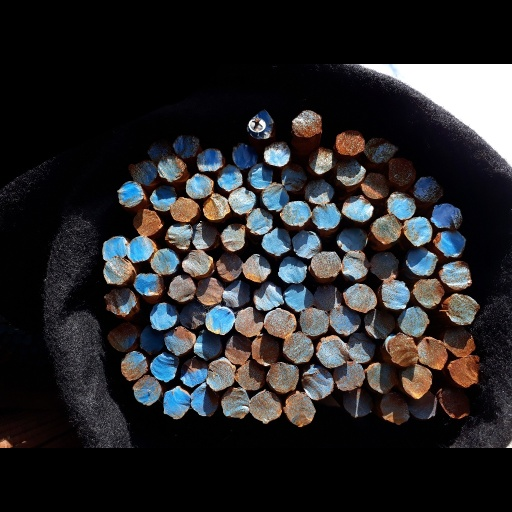dipstick: (401, 364, 433, 398), (416, 336, 448, 370), (284, 394, 316, 428), (250, 391, 282, 425), (447, 356, 480, 388), (343, 283, 378, 313), (267, 362, 300, 393), (447, 294, 479, 325), (367, 363, 398, 395), (282, 332, 314, 363), (303, 368, 333, 401), (438, 261, 472, 290), (103, 288, 137, 317), (261, 225, 292, 256), (444, 327, 476, 357), (412, 278, 444, 308), (132, 375, 162, 407), (432, 229, 466, 257), (162, 326, 196, 354), (245, 110, 276, 140), (399, 307, 429, 338), (370, 214, 401, 244), (250, 335, 280, 366), (205, 360, 235, 391), (107, 321, 138, 351), (430, 201, 462, 230), (317, 338, 349, 367), (190, 383, 219, 415), (333, 362, 366, 390), (402, 216, 432, 246), (330, 306, 360, 336), (439, 388, 470, 417), (380, 278, 409, 309), (163, 386, 190, 419), (387, 157, 416, 187), (336, 157, 366, 186), (380, 395, 410, 424), (343, 388, 373, 417), (252, 282, 282, 311), (265, 309, 295, 338), (236, 361, 265, 391), (102, 256, 132, 285), (342, 195, 373, 223), (364, 309, 395, 337), (262, 182, 290, 213), (222, 388, 250, 419), (182, 250, 213, 278), (150, 352, 178, 383), (348, 331, 375, 363), (370, 252, 399, 281), (242, 254, 271, 283), (292, 109, 322, 137), (386, 191, 416, 219), (311, 250, 341, 278), (298, 307, 329, 334), (414, 175, 443, 203), (360, 171, 388, 200), (312, 202, 341, 230), (192, 330, 220, 359), (205, 306, 234, 334), (222, 280, 251, 308), (406, 249, 437, 275), (341, 250, 367, 281), (279, 201, 310, 227), (364, 138, 397, 162), (314, 284, 342, 312), (120, 351, 148, 379), (409, 391, 436, 420), (201, 193, 230, 220), (279, 254, 306, 283), (190, 221, 217, 250), (133, 272, 164, 297), (308, 147, 336, 174), (292, 230, 319, 258), (228, 188, 256, 215), (215, 253, 243, 280), (164, 224, 192, 251), (149, 303, 177, 330), (148, 185, 176, 212), (116, 180, 144, 207), (336, 130, 365, 156), (282, 163, 308, 192), (284, 285, 313, 311), (167, 276, 196, 302), (150, 249, 179, 275), (133, 210, 162, 236), (337, 228, 367, 253), (181, 359, 208, 386), (391, 339, 417, 367), (246, 208, 274, 234), (169, 197, 198, 222), (217, 165, 243, 192), (197, 278, 223, 305), (158, 157, 186, 182), (186, 173, 212, 199), (127, 236, 153, 262), (305, 180, 333, 204), (221, 223, 245, 251), (232, 141, 256, 168), (130, 160, 157, 184), (103, 236, 128, 261), (264, 142, 290, 166), (173, 134, 199, 158), (196, 149, 223, 172), (179, 305, 206, 328), (248, 165, 273, 189), (141, 327, 162, 354), (147, 141, 172, 160)
